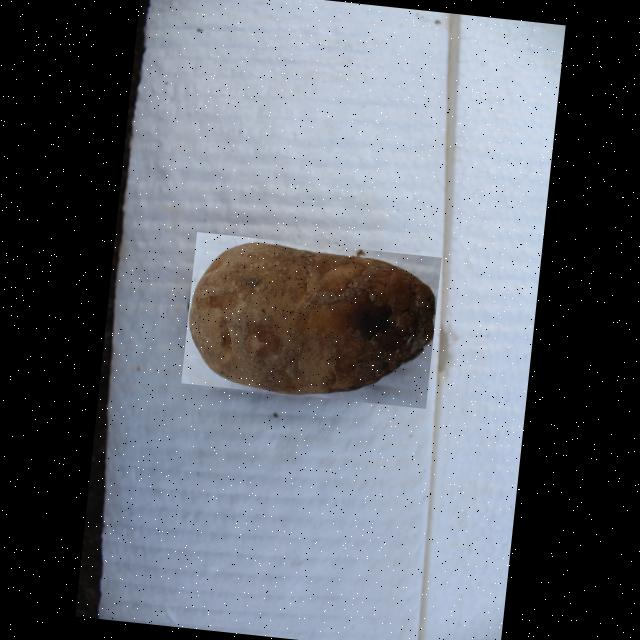Diseased-fungal potato: (180, 230, 442, 408)
